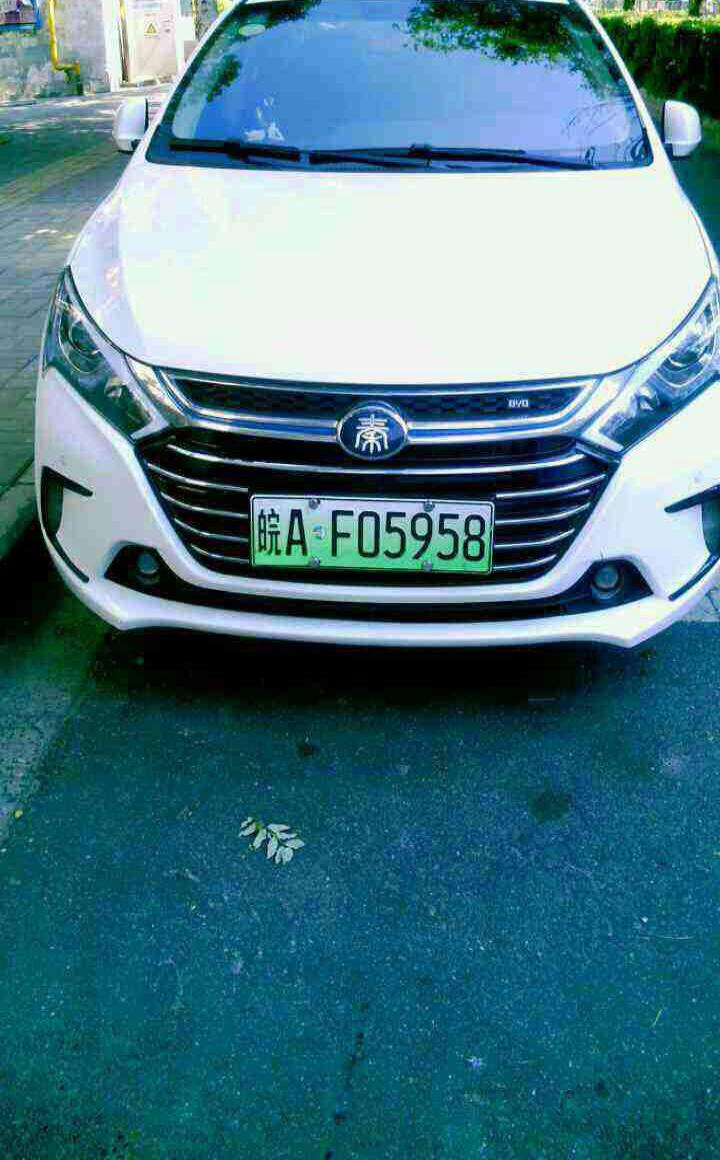car_id: (245, 494, 502, 569)
